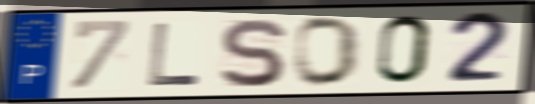0: (374, 13, 433, 87)
2: (441, 9, 518, 89)
7: (71, 18, 133, 94)
L: (144, 20, 201, 88)
O: (292, 14, 363, 89)
S: (216, 16, 287, 90)
